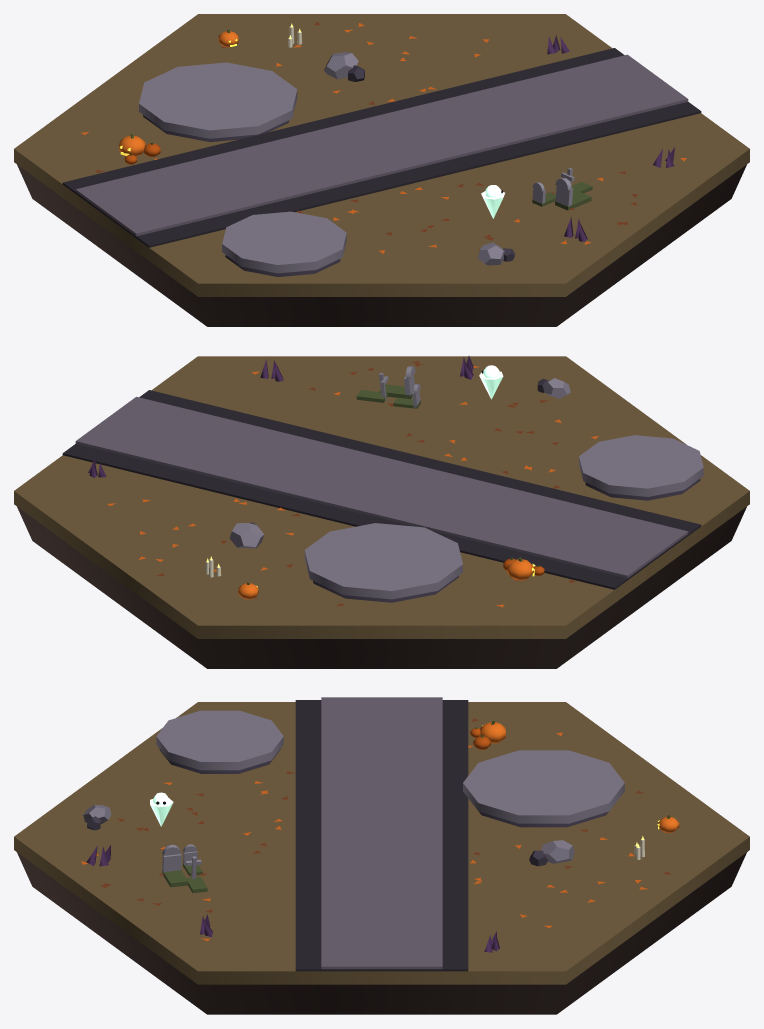
The model's file is tile_empty.glb.
The picture shows the model from 3 angles, top to bottom: view 1: azimuth 30°, elevation 25°; view 2: azimuth 150°, elevation 25°; view 3: azimuth 270°, elevation 25°; orthographic projection.
Visible parts, largest first — view 1: ground, road, ground_soil, tower_slot_1_plate, tower_slot_2_plate, road_surface_hub, road_verge_hub, deco_stone_3_a; view 2: ground, road, ground_soil, tower_slot_1_plate, tower_slot_2_plate, road_verge_hub, road_surface_hub, deco_stone_3_a, tower_slot_1_socket; view 3: ground, road, ground_soil, tower_slot_1_plate, tower_slot_2_plate, road_surface_hub, deco_stone_3_a, tower_slot_1_socket.
Boxes of the visible parts, <box> form: ground: <box>14,14,749,296</box>; road: <box>62,48,701,247</box>; ground_soil: <box>17,164,746,326</box>; tower_slot_1_plate: <box>139,62,297,138</box>; tower_slot_2_plate: <box>222,211,346,273</box>; road_surface_hub: <box>323,118,441,168</box>; road_verge_hub: <box>307,111,465,182</box>; deco_stone_3_a: <box>324,52,358,79</box>; ground: <box>14,356,749,638</box>; road: <box>62,390,701,589</box>; ground_soil: <box>17,507,746,668</box>; tower_slot_1_plate: <box>304,523,462,599</box>; tower_slot_2_plate: <box>579,435,703,496</box>; road_verge_hub: <box>334,453,457,524</box>; road_surface_hub: <box>322,461,440,510</box>; deco_stone_3_a: <box>229,523,264,548</box>; tower_slot_1_socket: <box>313,576,458,602</box>; ground: <box>14,702,749,984</box>; road: <box>295,697,468,971</box>; ground_soil: <box>17,852,746,1014</box>; tower_slot_1_plate: <box>463,750,624,823</box>; tower_slot_2_plate: <box>156,710,283,770</box>; road_surface_hub: <box>321,808,442,857</box>; deco_stone_3_a: <box>541,840,574,863</box>; tower_slot_1_socket: <box>479,811,608,827</box>.
Bounding box in the file's own units: 1.73 × 0.282 × 2.
